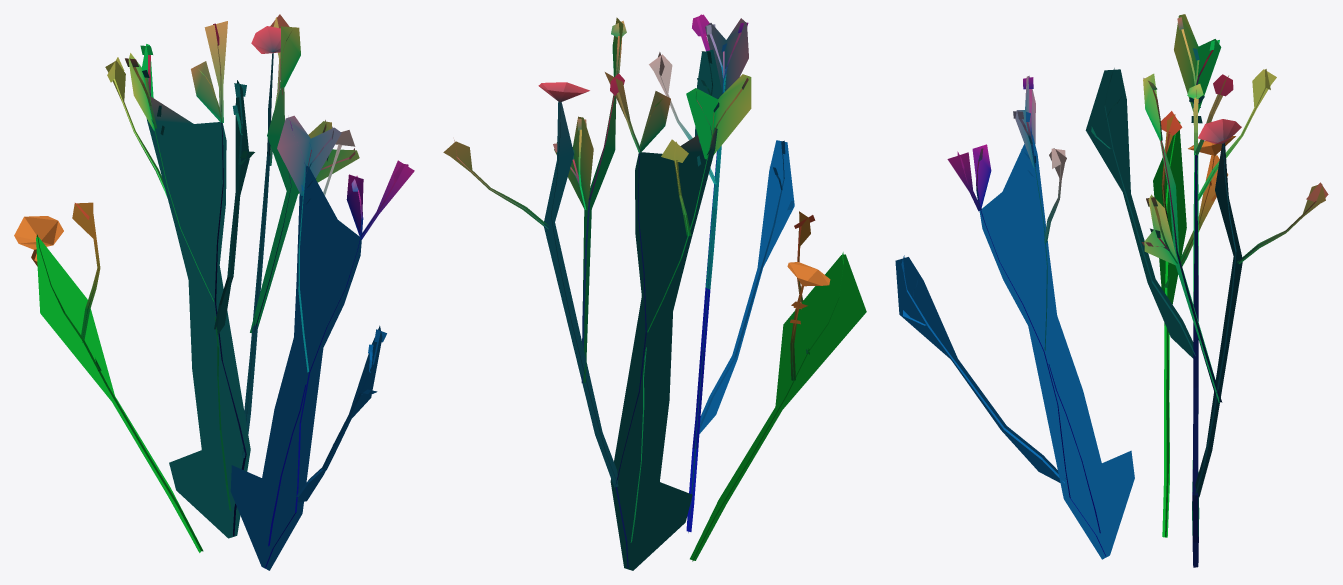
Rendered from Nordic_Coastal_Groundcover_vlqkdeaja_Mid_vlqkdeaja_VarA_LOD0.fbx.
3 views of the same model, side by side, from view 1: azimuth 30°, elevation 25°; view 2: azimuth 150°, elevation 25°; view 3: azimuth 270°, elevation 25° (orthographic). The views are drawn at different scales.
Parts seen in each view (by area): view 1: _vszt_VarA_LOD1; view 2: _vszt_VarA_LOD1; view 3: _vszt_VarA_LOD1.
Boxes of the visible parts, <box> form: _vszt_VarA_LOD1: <box>14,14,414,570</box>; _vszt_VarA_LOD1: <box>443,14,866,570</box>; _vszt_VarA_LOD1: <box>895,14,1328,567</box>.
Bounding box in the file's own units: 30.82 × 46.03 × 35.5.
